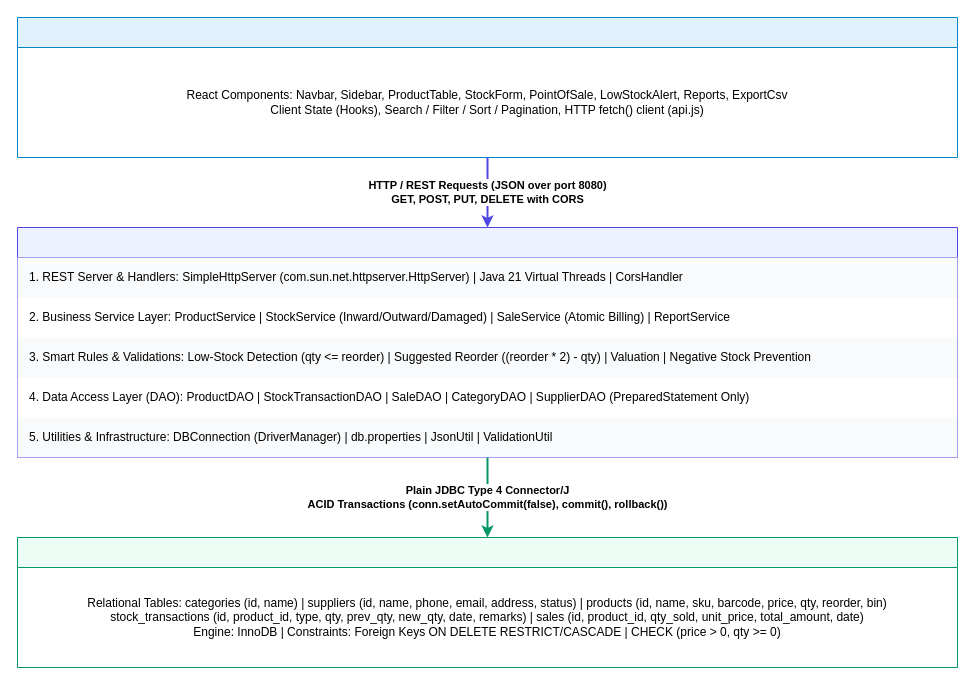
Some shapes in this 975 by 685 pixel diagram are drawn without their labels. Here are the shapes that lost their labels. From the top down, the box of each, then its label:
(16, 16, 958, 158): PRESENTATION TIER (React 18 Single Page Application)
(16, 226, 958, 458): APPLICATION TIER (Core Java 21 LTS - Zero Heavy Frameworks)
(16, 536, 958, 668): DATA TIER (MySQL 8.0 Relational Database Engine)
